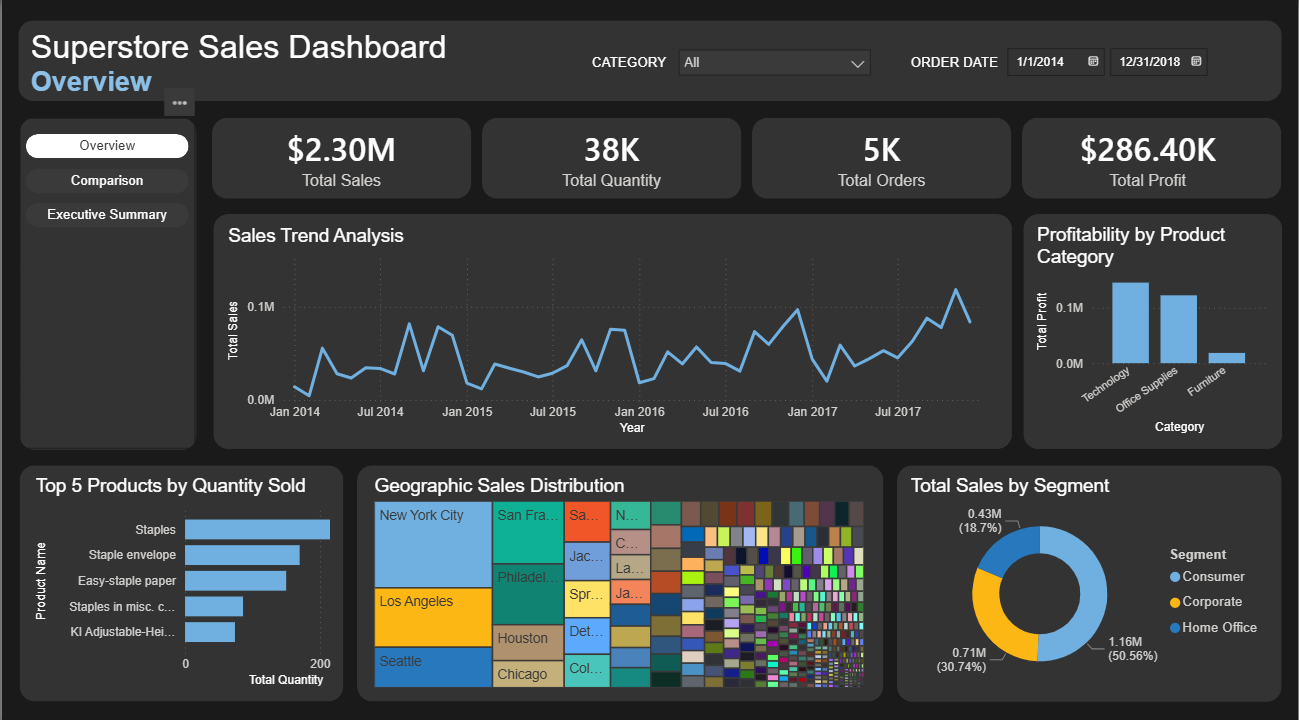

What the dashboard file says about the page in this screenshot:
{"tool":"powerbi","page":{"name":"Overview","canvas":[1280,720],"ordinal":0},"visuals":[{"type":"shape","box":[16,20.8,1248,80],"z":0},{"type":"shape","box":[16.7,116.7,175,328.3],"z":1000},{"type":"shape","box":[208,116.8,256,80],"z":2000},{"type":"shape","box":[474.7,116.8,256,80],"z":3000},{"type":"shape","box":[741.3,116.8,256,80],"z":4000},{"type":"shape","box":[1008,116.8,256,80],"z":5000},{"type":"shape","box":[208.2,212.7,789.1,232.3],"z":6000},{"type":"shape","box":[1008.2,212.7,255.9,232.3],"z":7000},{"type":"shape","box":[16.7,460,320,233.3],"z":8000},{"type":"shape","box":[350,460,520,233.3],"z":9000},{"type":"cardVisual","fields":{"Data":["Sample - Superstore.Total Sales"]},"box":[207.9,117.1,256.4,80],"z":10000},{"type":"cardVisual","fields":{"Data":["Sample - Superstore.Total Orders"]},"box":[740.7,116.7,256.7,80],"z":11000},{"type":"cardVisual","fields":{"Data":["Sample - Superstore.Total Profit"]},"box":[1008.3,116.7,246.7,80],"z":12000},{"type":"cardVisual","fields":{"Data":["Sample - Superstore.Total Quantity"]},"box":[474,117.3,256.7,80],"z":13000},{"type":"lineChart","title":"Sales Trend Analysis","fields":{"Y":["Sample - Superstore.Total Sales"],"Category":["Calendar.Date.Variation.Date Hierarchy.Year","Calendar.Date.Variation.Date Hierarchy.Quarter","Calendar.Date.Variation.Date Hierarchy.Month"]},"box":[218.6,222.9,765.7,211.4],"z":14000},{"type":"clusteredColumnChart","title":"Profitability by Product Category","fields":{"Y":["Sample - Superstore.Total Profit"],"Category":["Sample - Superstore.Category"]},"box":[1017.8,222.2,236.7,212.2],"z":15000},{"type":"clusteredBarChart","title":"Top 5 Products by Quantity Sold","fields":{"Category":["Sample - Superstore.Product Name"],"Y":["Sample - Superstore.Total Quantity"]},"box":[28.3,470,368.3,213.3],"z":16000},{"type":"treemap","title":"Geographic Sales Distribution","fields":{"Group":["Sample - Superstore.City"],"Values":["Sample - Superstore.Total Sales"]},"box":[363.3,470,493.3,215],"z":17000},{"type":"textbox","box":[23.3,24.4,503.3,51.1],"z":18000},{"type":"textbox","box":[23.3,62.2,300,54.4],"z":19000},{"type":"slicer","fields":{"Values":["Sample - Superstore.Category","Sample - Superstore.Sub-Category"]},"box":[657.7,39.4,210,47.9],"z":20000},{"type":"slicer","fields":{"Values":["Calendar.Date"]},"box":[980,38.6,226.4,47.9],"z":21000},{"type":"textbox","box":[578,50.8,108,32],"z":22000},{"type":"textbox","box":[892,50.8,108,32],"z":23000},{"type":"pageNavigator","box":[22.9,132.9,161.4,92.9],"z":24000},{"type":"shape","box":[883.8,460,380,233.8],"z":25000},{"type":"donutChart","fields":{"Category":["Sample - Superstore.Segment"],"Y":["Sample - Superstore.Total Sales"]},"box":[892.5,470,361.2,213.8],"z":26000}]}

Visuals, with their boxes in screenshot pixels (x1, y1, x2, y2), scaled from the page's 1280x720 canvas onto the 1299x720 screenshot:
shape: <bbox>16, 21, 1283, 101</bbox>
shape: <bbox>17, 117, 195, 445</bbox>
shape: <bbox>211, 117, 471, 197</bbox>
shape: <bbox>482, 117, 742, 197</bbox>
shape: <bbox>752, 117, 1012, 197</bbox>
shape: <bbox>1023, 117, 1283, 197</bbox>
shape: <bbox>211, 213, 1012, 445</bbox>
shape: <bbox>1023, 213, 1283, 445</bbox>
shape: <bbox>17, 460, 342, 693</bbox>
shape: <bbox>355, 460, 883, 693</bbox>
cardVisual - Sample - Superstore.Total Sales: <bbox>211, 117, 471, 197</bbox>
cardVisual - Sample - Superstore.Total Orders: <bbox>752, 117, 1012, 197</bbox>
cardVisual - Sample - Superstore.Total Profit: <bbox>1023, 117, 1274, 197</bbox>
cardVisual - Sample - Superstore.Total Quantity: <bbox>481, 117, 742, 197</bbox>
"Sales Trend Analysis" lineChart: <bbox>222, 223, 999, 434</bbox>
"Profitability by Product Category" clusteredColumnChart: <bbox>1033, 222, 1273, 434</bbox>
"Top 5 Products by Quantity Sold" clusteredBarChart: <bbox>29, 470, 402, 683</bbox>
"Geographic Sales Distribution" treemap: <bbox>369, 470, 869, 685</bbox>
textbox: <bbox>24, 24, 534, 76</bbox>
textbox: <bbox>24, 62, 328, 117</bbox>
slicer - Sample - Superstore.Category x Sample - Superstore.Sub-Category: <bbox>667, 39, 881, 87</bbox>
slicer - Calendar.Date: <bbox>995, 39, 1224, 86</bbox>
textbox: <bbox>587, 51, 696, 83</bbox>
textbox: <bbox>905, 51, 1015, 83</bbox>
pageNavigator: <bbox>23, 133, 187, 226</bbox>
shape: <bbox>897, 460, 1283, 694</bbox>
donutChart - Sample - Superstore.Segment x Sample - Superstore.Total Sales: <bbox>906, 470, 1272, 684</bbox>
